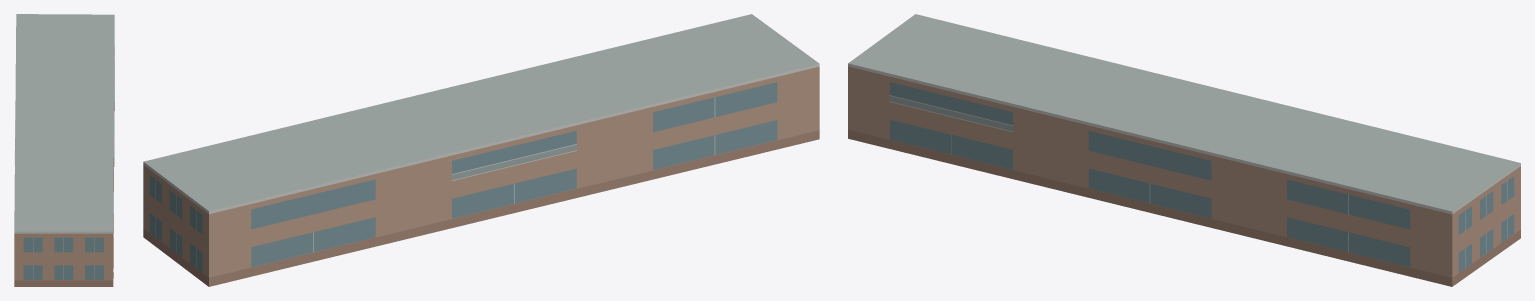
File: survey-upis-32656511.glb
The picture shows the model from 3 angles, left to right: view 1: azimuth 30°, elevation 25°; view 2: azimuth 150°, elevation 25°; view 3: azimuth 270°, elevation 25°; orthographic projection. The views are drawn at different scales.
Parts seen in each view (by area): view 1: survey-upis-32656511.tmp; view 2: survey-upis-32656511.tmp; view 3: survey-upis-32656511.tmp.
Boxes of the visible parts, x1=… form: survey-upis-32656511.tmp: x1=14, y1=14, x2=114, y2=286; survey-upis-32656511.tmp: x1=143, y1=14, x2=819, y2=286; survey-upis-32656511.tmp: x1=848, y1=14, x2=1520, y2=286.
Size of the model in its own units: 34.31 by 6.1 by 49.36.
